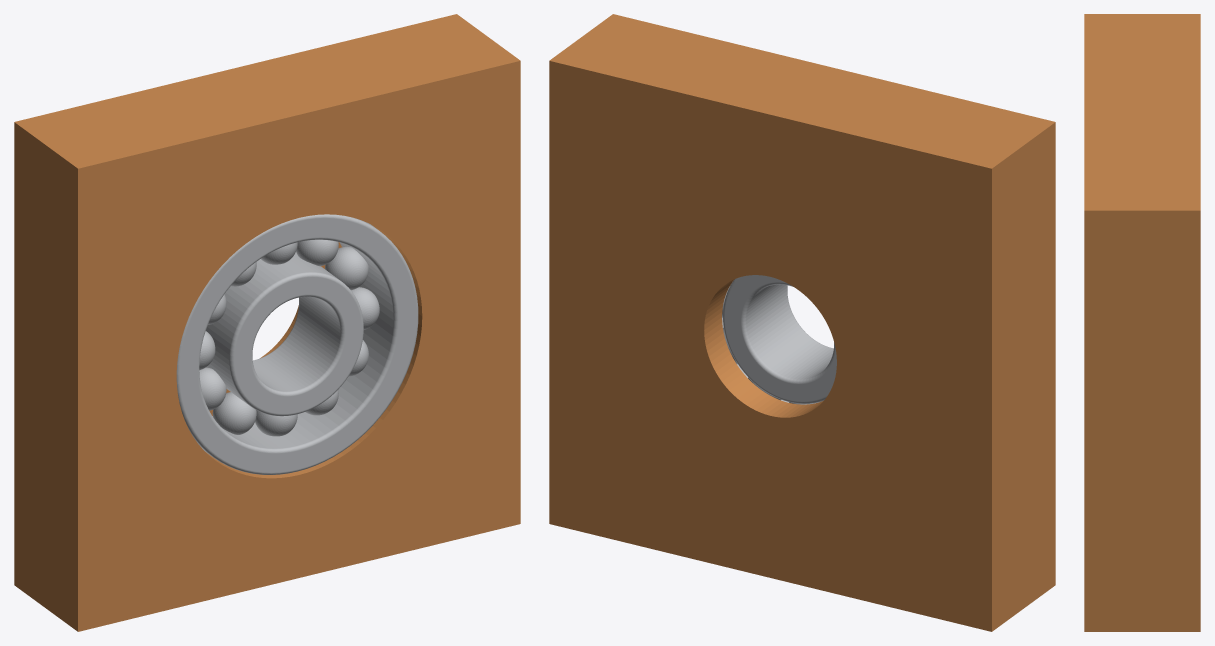
The picture shows the model from 3 angles, left to right: view 1: azimuth 30°, elevation 25°; view 2: azimuth 150°, elevation 25°; view 3: azimuth 270°, elevation 25°; orthographic projection. The views are drawn at different scales.
Visible parts, largest first — view 1: plaque, roulement; view 2: plaque, roulement; view 3: plaque.
Part boxes in pixels (x1,y1,x2,y2): plaque: (14,14,520,631); roulement: (176,214,418,474); plaque: (549,14,1055,631); roulement: (722,275,836,404); plaque: (1084,14,1200,631).
Size of the model in its own units: 40 by 40 by 10.
